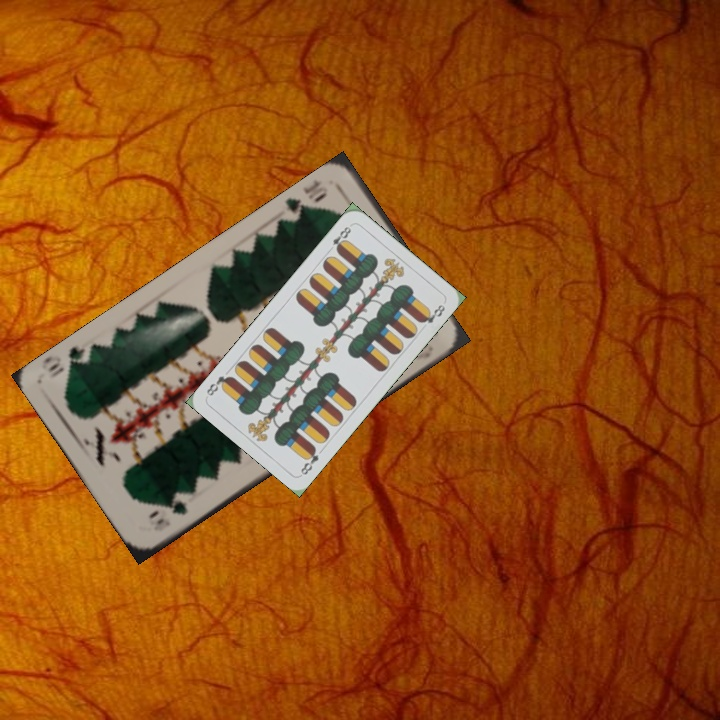E8: (324, 221, 354, 255), (296, 442, 321, 478)
G10: (282, 176, 331, 225), (152, 496, 190, 528)
